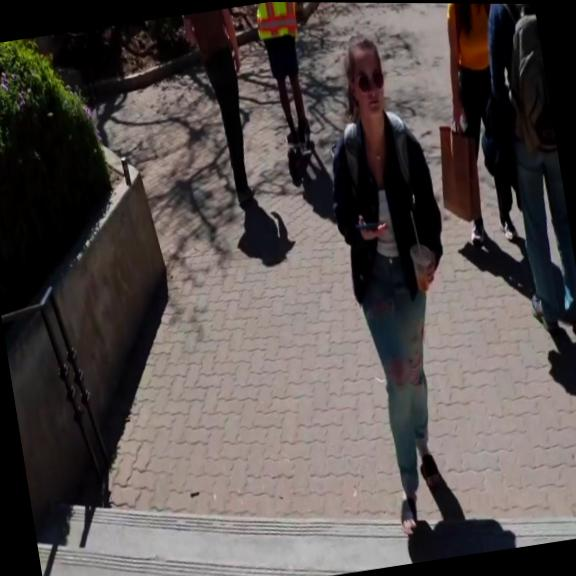safety_vest: (251, 2, 302, 45)
